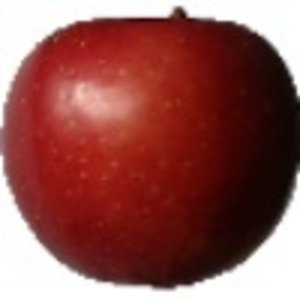maçã braeburn: (1, 11, 298, 286)
